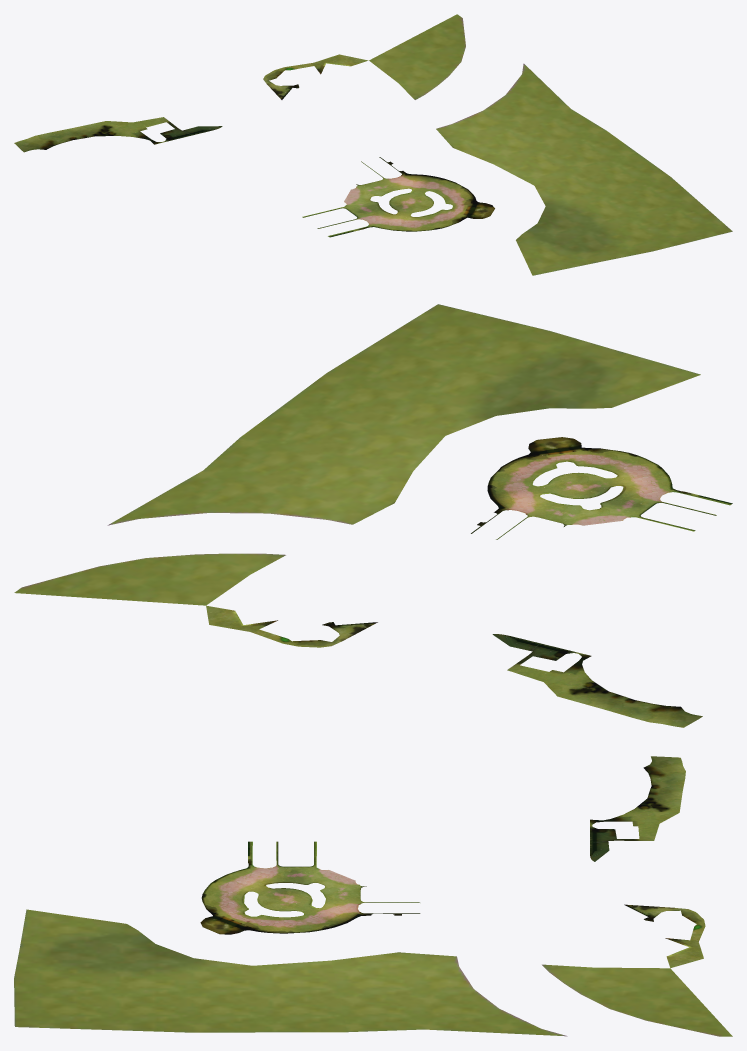
Rendered from pref_sm_garden_terrain_03_lv1.fbx.
3 views of the same model, one above another, from view 1: azimuth 30°, elevation 25°; view 2: azimuth 150°, elevation 25°; view 3: azimuth 270°, elevation 25° (orthographic). The views are drawn at different scales.
Visible parts, largest first — view 1: pref_sm_garden_terrain_03_lv1; view 2: pref_sm_garden_terrain_03_lv1; view 3: pref_sm_garden_terrain_03_lv1.
Boxes of the visible parts, bbox=[...] form: pref_sm_garden_terrain_03_lv1: bbox=[14, 14, 732, 275]; pref_sm_garden_terrain_03_lv1: bbox=[14, 304, 732, 727]; pref_sm_garden_terrain_03_lv1: bbox=[14, 756, 732, 1036].
Size of the model in its own units: 155 by 0.000551 by 168.
